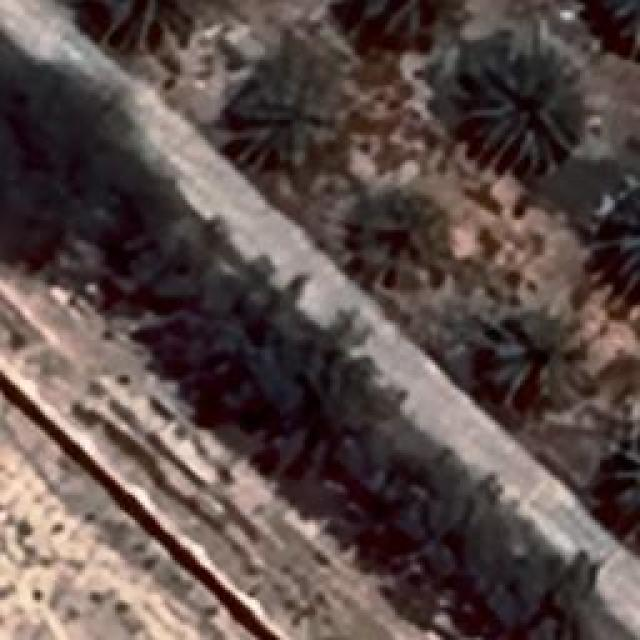PalmTree: (222, 35, 348, 180), (460, 45, 585, 175), (341, 185, 449, 290), (488, 302, 598, 400), (579, 175, 639, 310), (587, 415, 640, 545), (86, 0, 174, 58), (350, 0, 465, 38), (572, 1, 638, 64)
